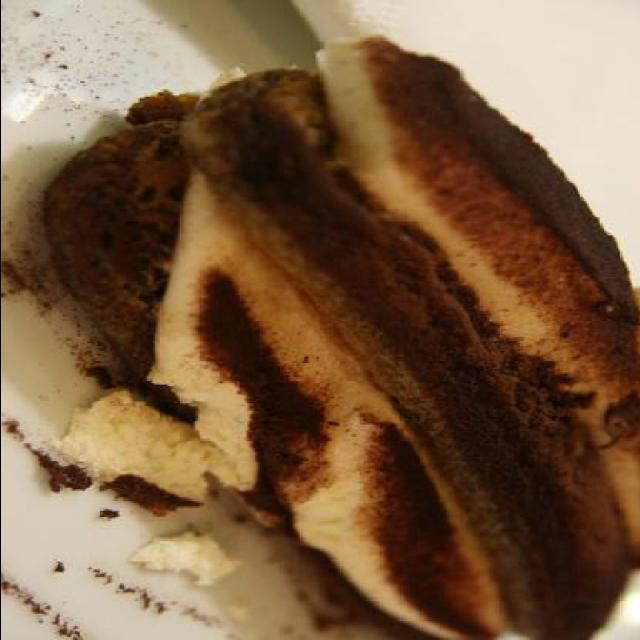Tiramisu: (91, 50, 634, 628)
